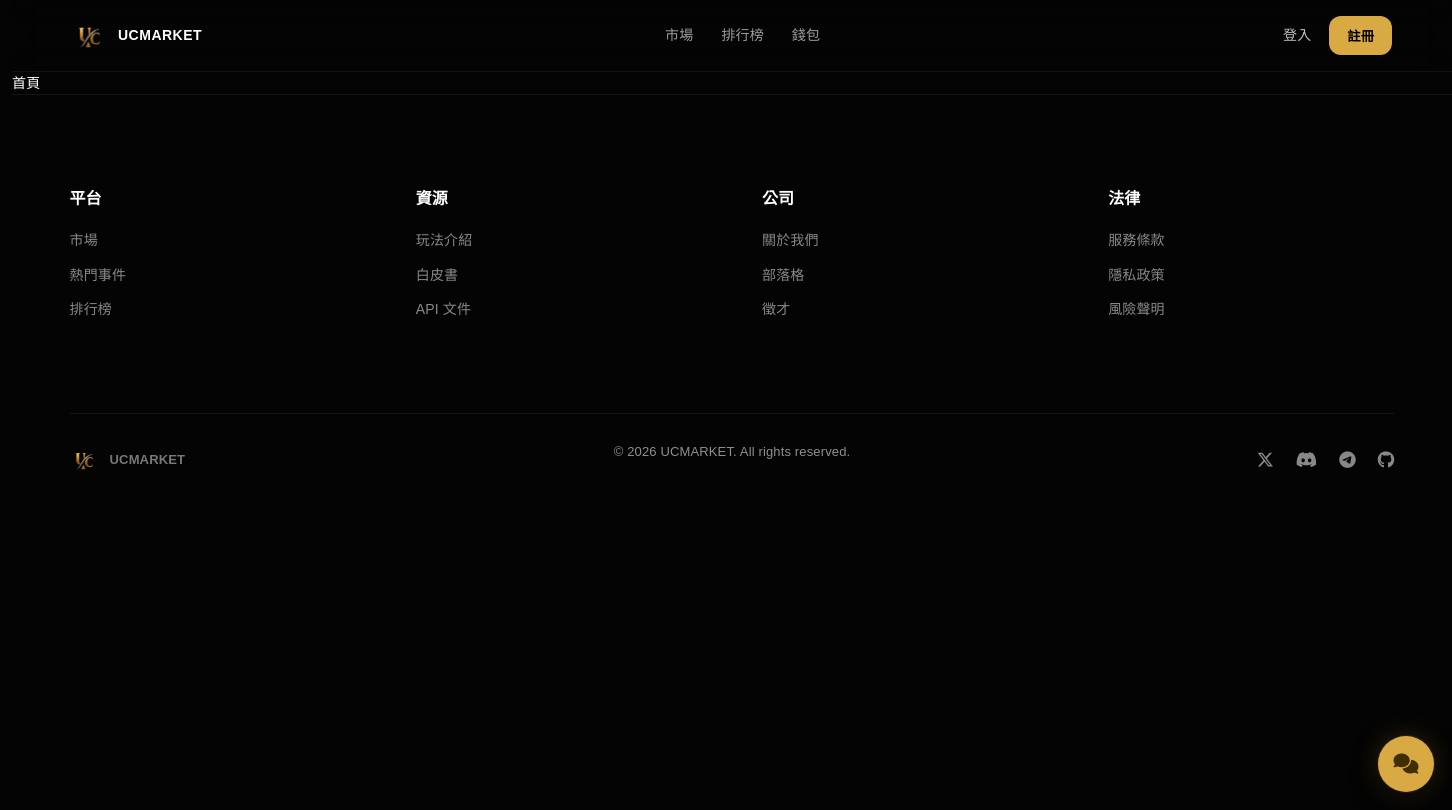
Test: UserLayout 導覽與手機版頁尾選單 › 在其他頁點擊市場時維持跳轉到市場頁
The image size is (1452, 810).
Click the link to "/rankings" at (743, 36), box [721,24,764,47]
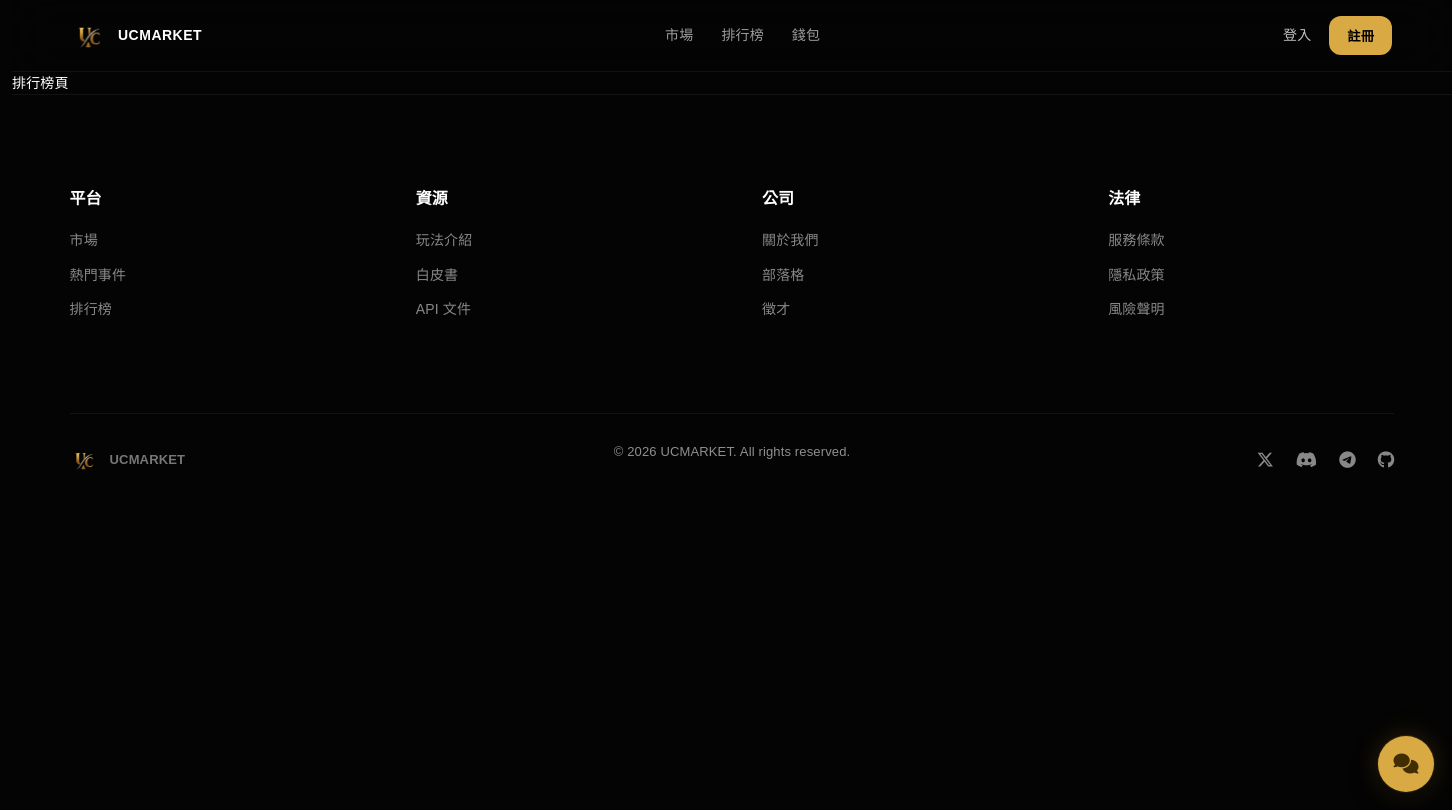
Expected: the text "排行榜頁" is shown, [12,75,69,91]
Click the link to "/home" at (679, 36), box [665,24,693,47]
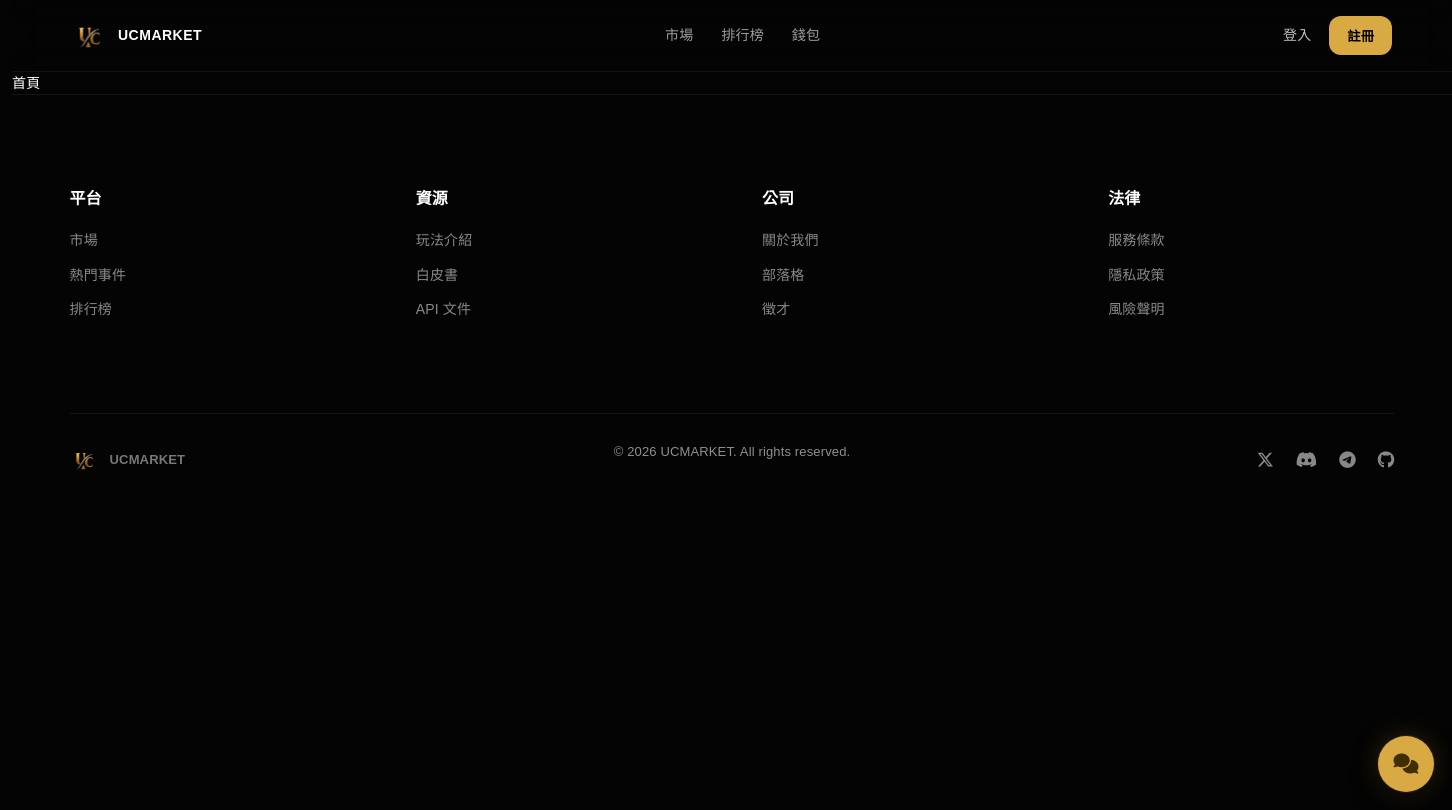
Expected: the text "首頁" is shown, [12,75,40,91]
